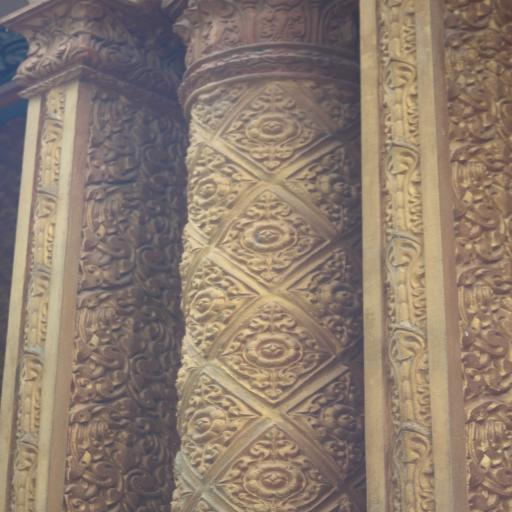hoa: (217, 417, 328, 512), (223, 78, 330, 171), (218, 176, 318, 274), (224, 301, 322, 394), (175, 258, 247, 346), (300, 250, 364, 344), (181, 374, 248, 456), (305, 142, 367, 228), (184, 147, 242, 228)
la: (387, 323, 424, 423), (392, 418, 431, 512), (380, 140, 420, 228), (378, 54, 416, 142), (17, 268, 57, 350), (386, 225, 419, 322), (3, 436, 40, 512), (15, 357, 45, 430), (26, 195, 56, 267), (35, 114, 60, 198), (380, 6, 420, 58)
